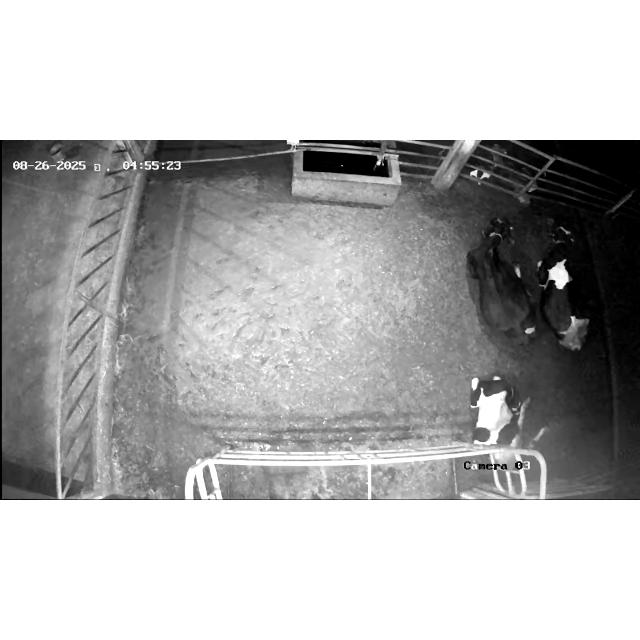lay: (461, 215, 542, 349), (460, 364, 550, 472), (538, 214, 604, 356)
